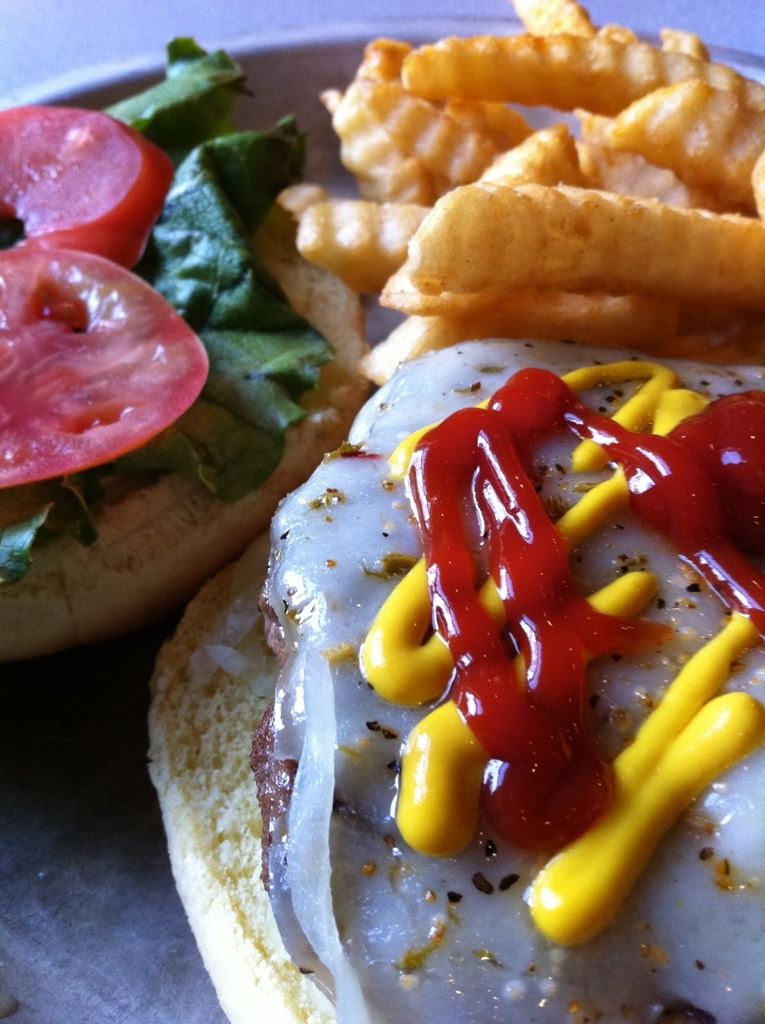French fries: (271, 0, 764, 382)
